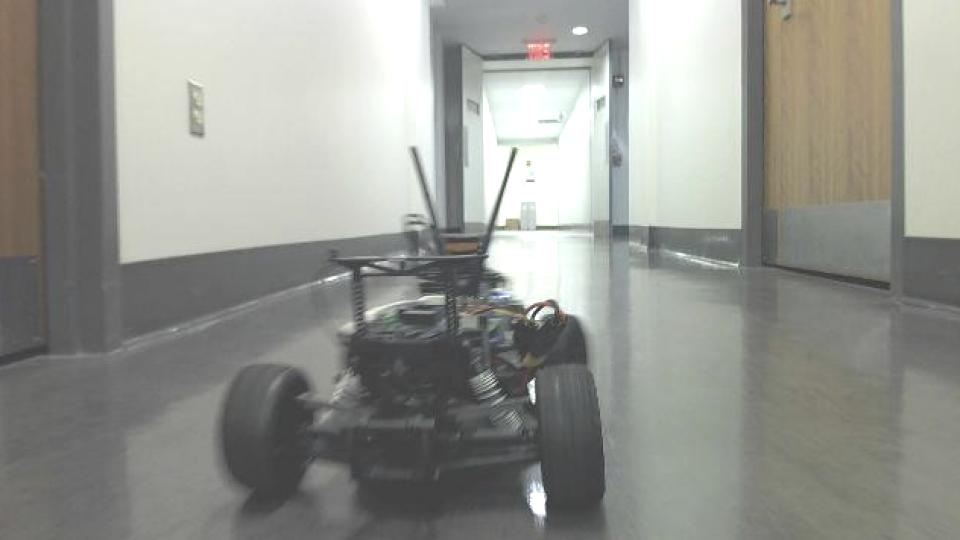car: (216, 142, 609, 516)
